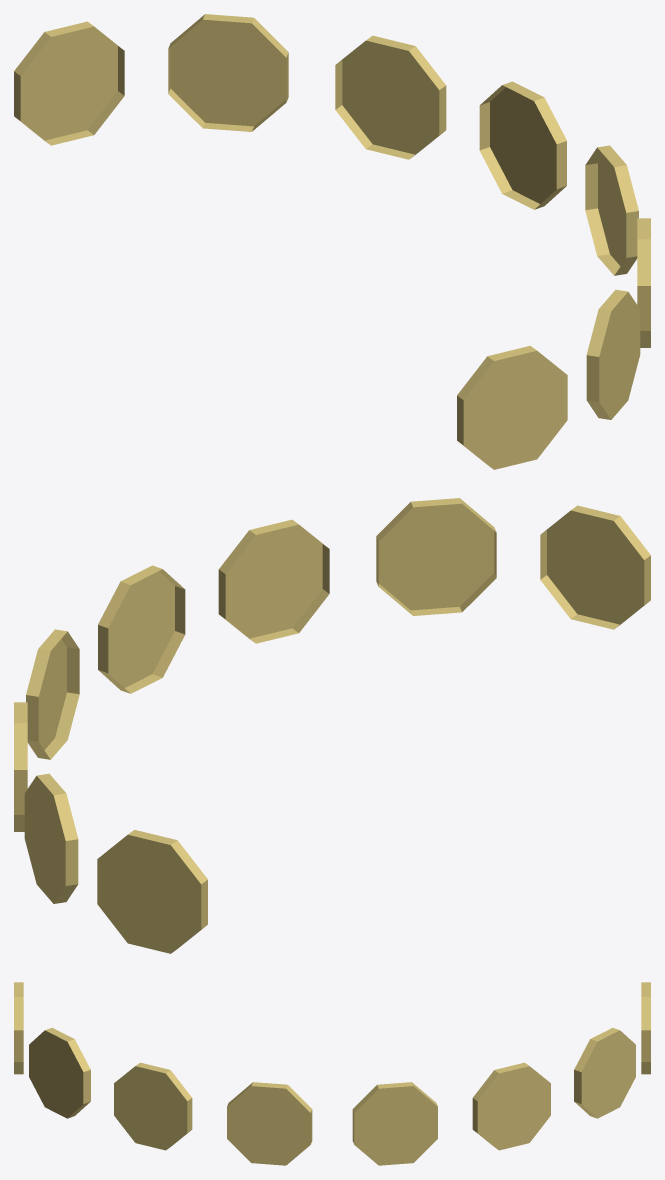
File: front_sonar.dae
3 renders of one model, top to bottom at view 1: azimuth 30°, elevation 25°; view 2: azimuth 150°, elevation 25°; view 3: azimuth 270°, elevation 25°, orthographic. The views are drawn at different scales.
Visible parts, largest first — view 1: Front_Sonar; view 2: Front_Sonar; view 3: Front_Sonar.
Boxes of the visible parts, x1=… form: Front_Sonar: x1=14, y1=14, x2=650, y2=469; Front_Sonar: x1=14, y1=498, x2=650, y2=953; Front_Sonar: x1=14, y1=982, x2=650, y2=1165.
Bounding box in the file's own units: 0.1237 × 0.2804 × 0.0374.
